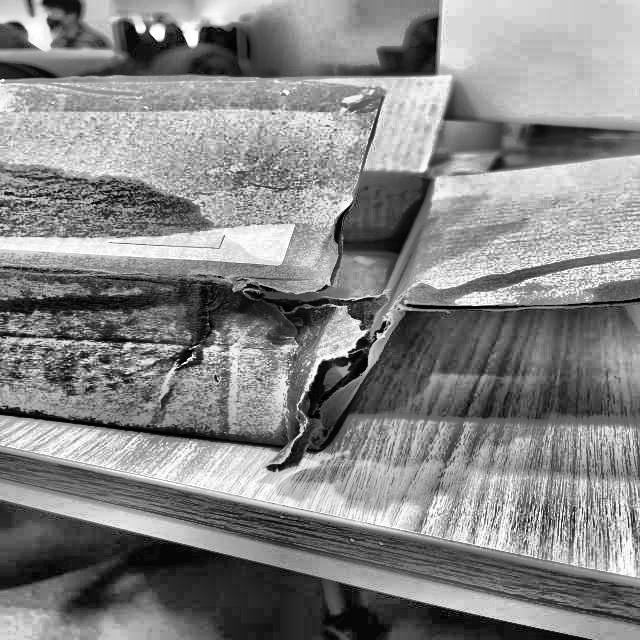box: (1, 77, 639, 469)
wet: (2, 154, 214, 242)
